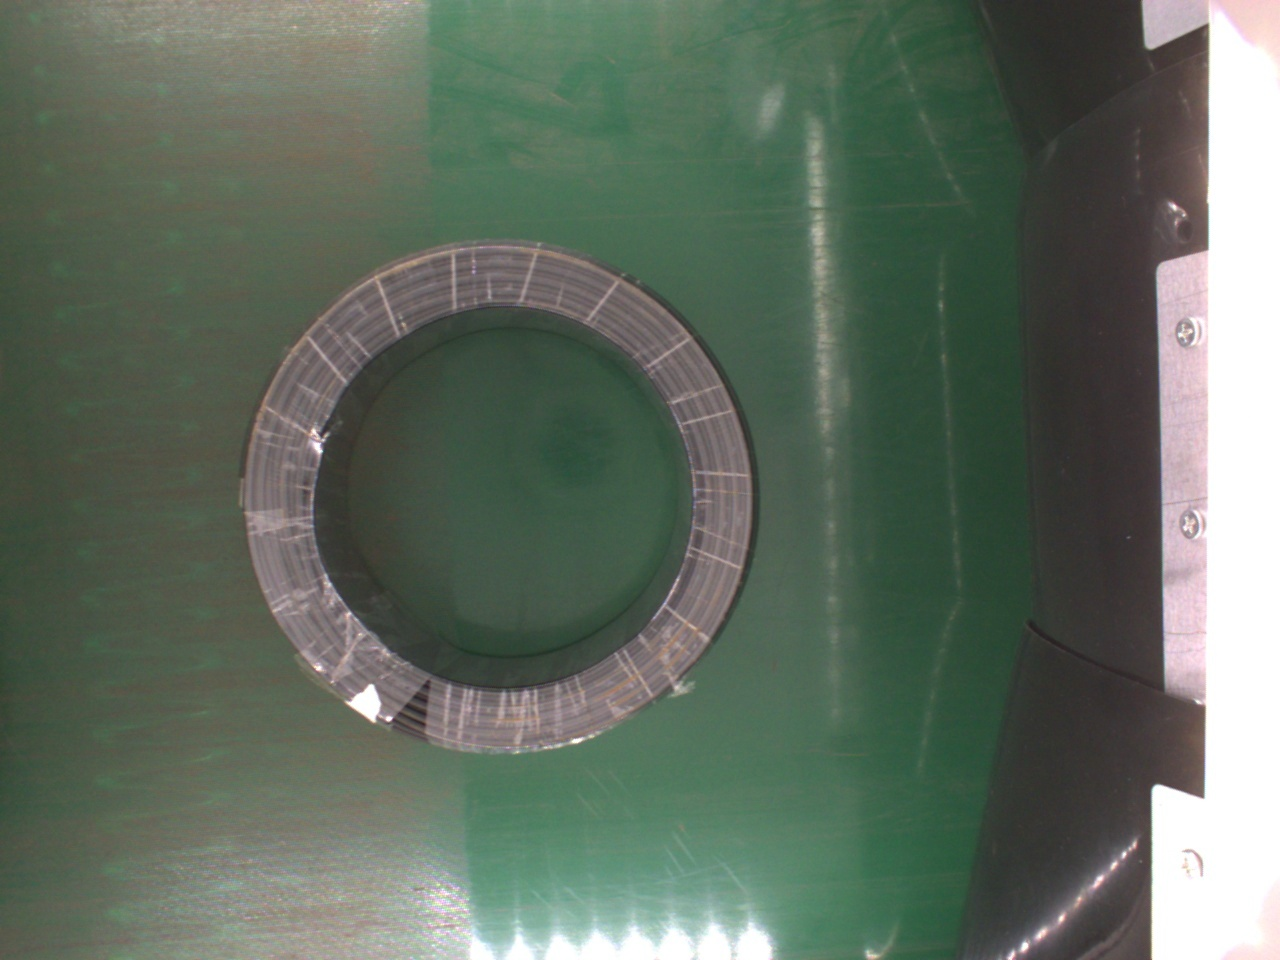black: (237, 241, 760, 754)
